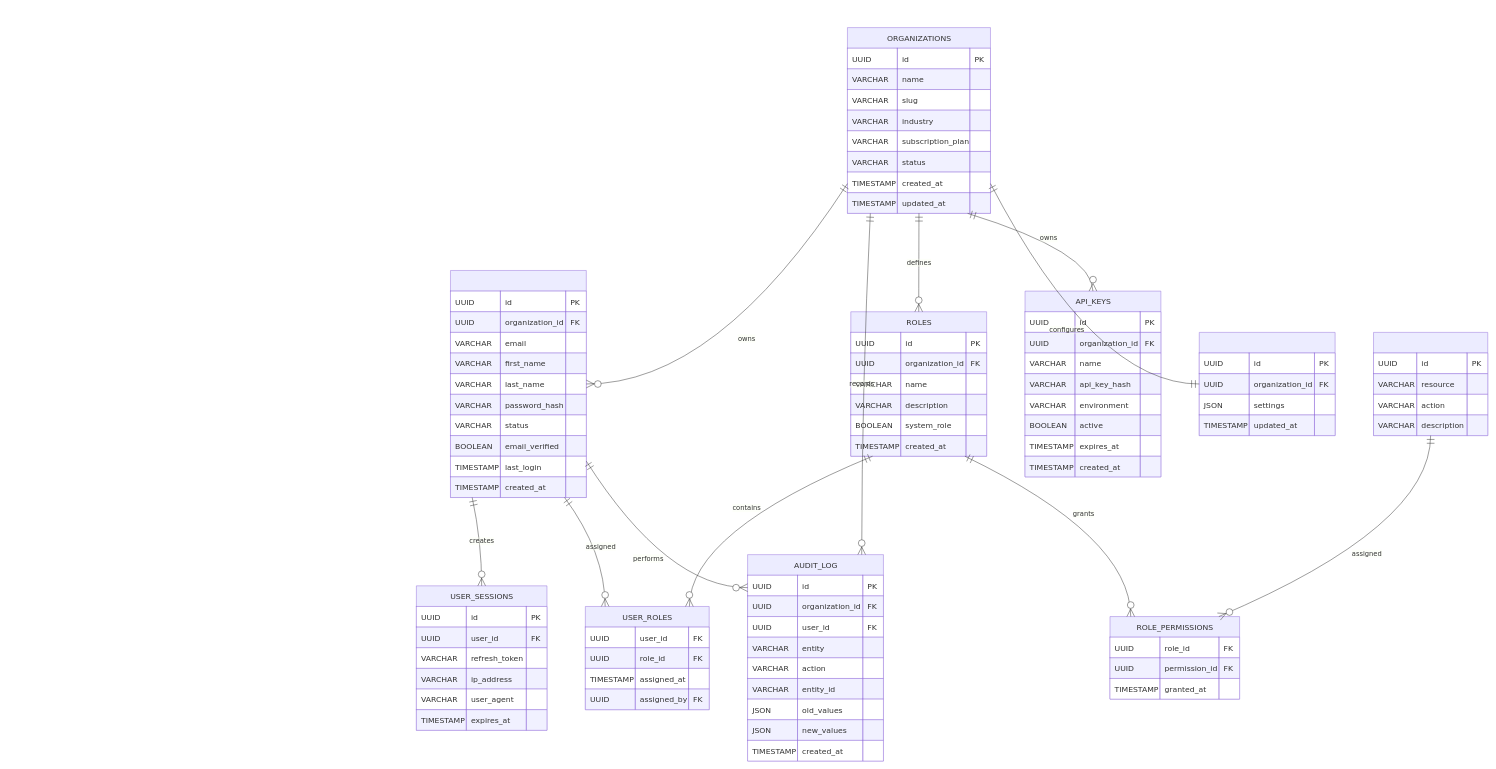
This 1496x769 diagram has some shape labels left out. The shapes that lost their labels are listed below. From the top down, each one's box as (x1, y1, x2, y2) in pixels, then its label:
(450, 270, 586, 498): USERS
(1199, 332, 1335, 436): ORGANIZATION_SETTINGS
(1373, 332, 1488, 436): PERMISSIONS
